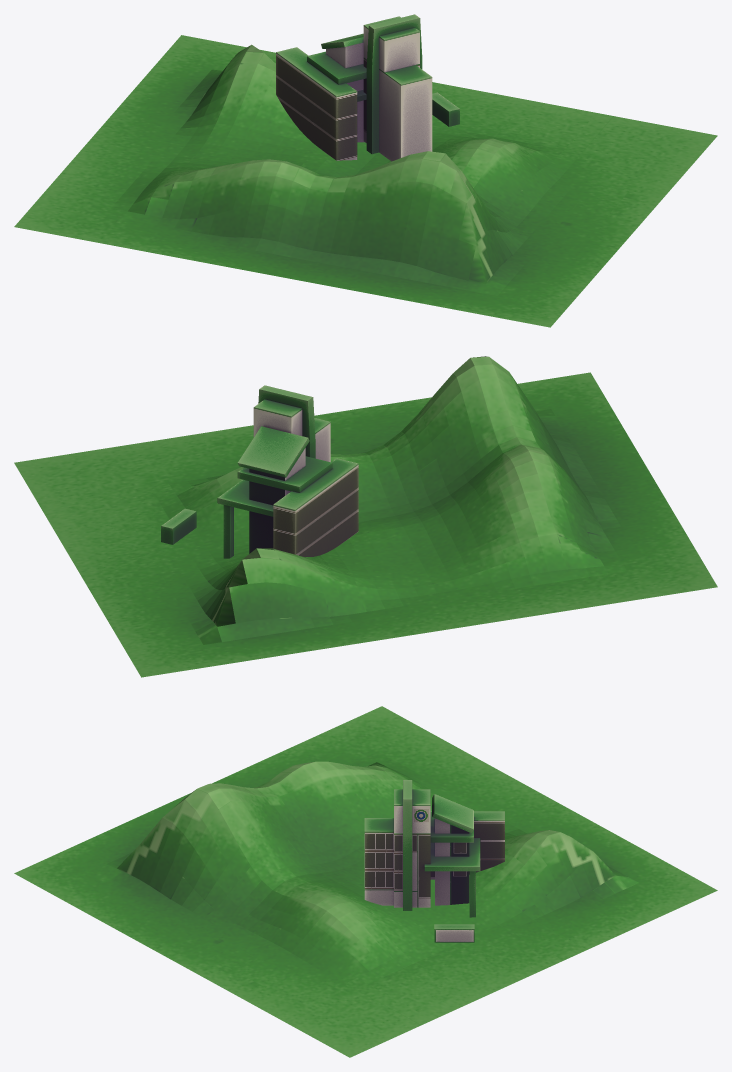
The model's file is mainmenu.obj.
The picture shows the model from 3 angles, top to bottom: view 1: azimuth 30°, elevation 25°; view 2: azimuth 150°, elevation 25°; view 3: azimuth 270°, elevation 25°; orthographic projection. The views are drawn at different scales.
Parts seen in each view (by area): view 1: mesh, Cube; view 2: mesh, Cube; view 3: mesh, Cube.
Part boxes in pixels (bbox=[...]): mesh: bbox=[14, 35, 717, 327]; Cube: bbox=[276, 14, 459, 161]; mesh: bbox=[14, 356, 717, 677]; Cube: bbox=[161, 385, 358, 558]; mesh: bbox=[14, 706, 717, 1057]; Cube: bbox=[364, 780, 504, 942].
Size of the model in its own units: 9.39 by 2.1 by 9.43.
Materials: 2 (2 with a texture image).
